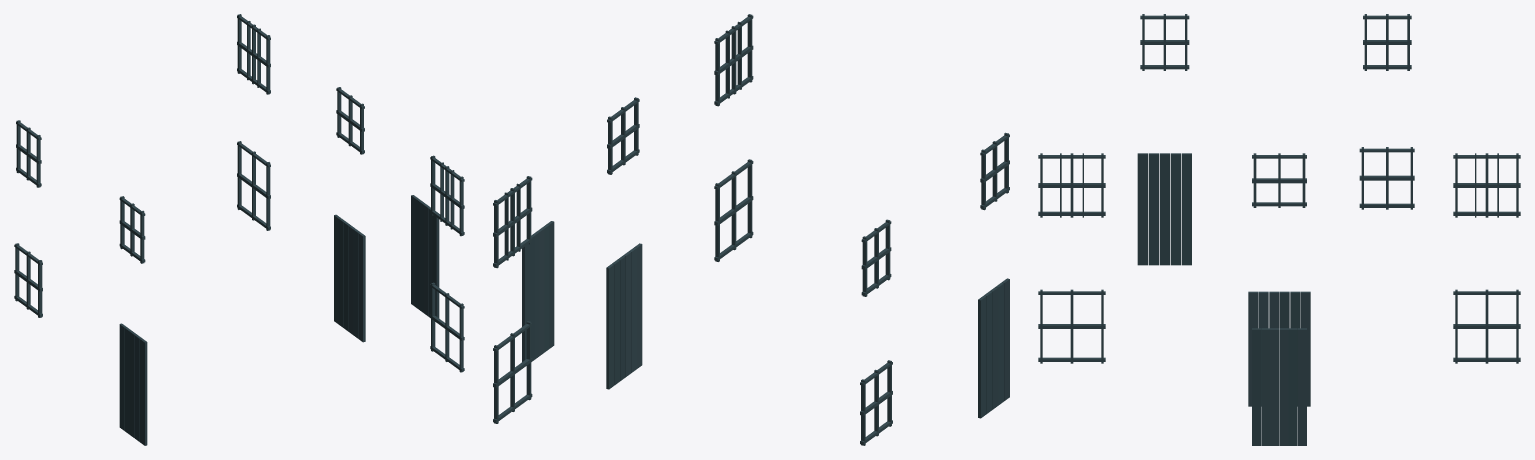
The model's file is SM_Bld_197_Wood.glb.
The picture shows the model from 3 angles, left to right: view 1: azimuth 30°, elevation 25°; view 2: azimuth 150°, elevation 25°; view 3: azimuth 270°, elevation 25°; orthographic projection. The views are drawn at different scales.
Parts seen in each view (by area): view 1: SM_Bld_197_Wood; view 2: SM_Bld_197_Wood; view 3: SM_Bld_197_Wood.
Boxes of the visible parts, x1,y1,x2,y2 form: SM_Bld_197_Wood: (14,14,464,445); SM_Bld_197_Wood: (493,14,1009,445); SM_Bld_197_Wood: (1038,14,1520,445).
Bounding box in the file's own units: 7.07 × 4.55 × 7.88.
